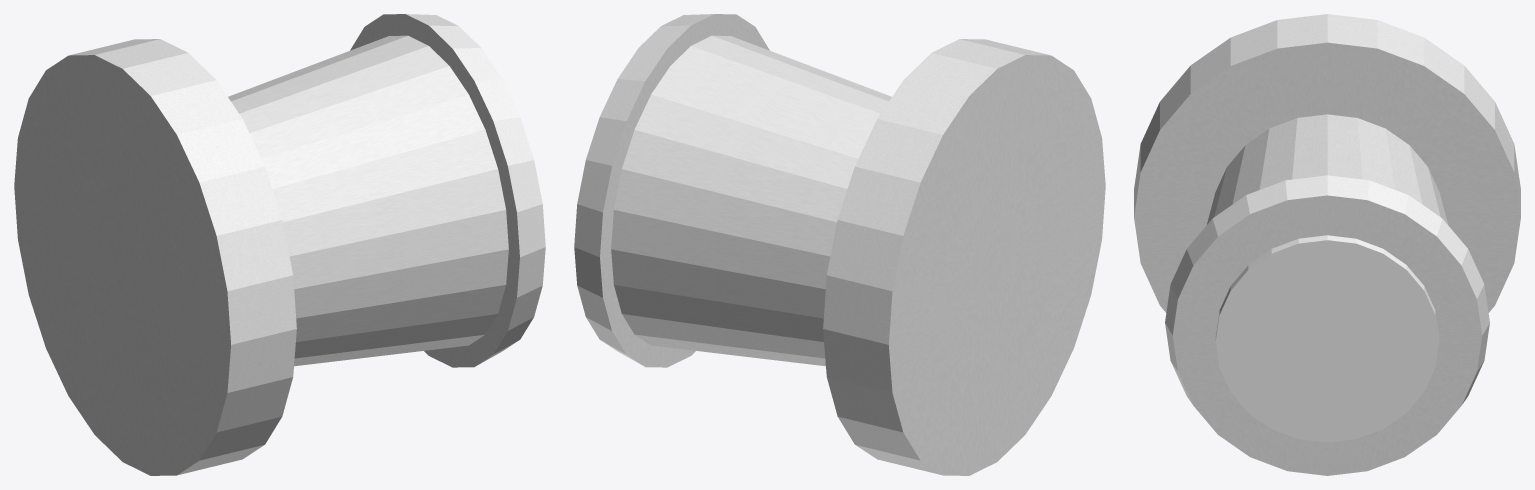
File: minibezeldot.obj
3 views of the same model, side by side, from view 1: azimuth 30°, elevation 25°; view 2: azimuth 150°, elevation 25°; view 3: azimuth 270°, elevation 25° (orthographic). The views are drawn at different scales.
Visible parts, largest first — view 1: Base, Head0Metal, Head0Trim; view 2: Base, Head0Metal, Head0Trim; view 3: Base, Head0Trim, Light0, Head0Metal.
Boxes of the visible parts, x1=… form: Base: x1=14, y1=39, x2=296, y2=475; Head0Metal: x1=228, y1=35, x2=508, y2=366; Head0Trim: x1=350, y1=14, x2=545, y2=367; Base: x1=823, y1=39, x2=1105, y2=475; Head0Metal: x1=611, y1=35, x2=891, y2=366; Head0Trim: x1=574, y1=14, x2=769, y2=367; Base: x1=1134, y1=14, x2=1520, y2=312; Head0Trim: x1=1165, y1=175, x2=1489, y2=475; Light0: x1=1215, y1=235, x2=1439, y2=442; Head0Metal: x1=1207, y1=114, x2=1447, y2=224.
Bounding box in the file's own units: 0.186 × 0.2 × 0.2.
